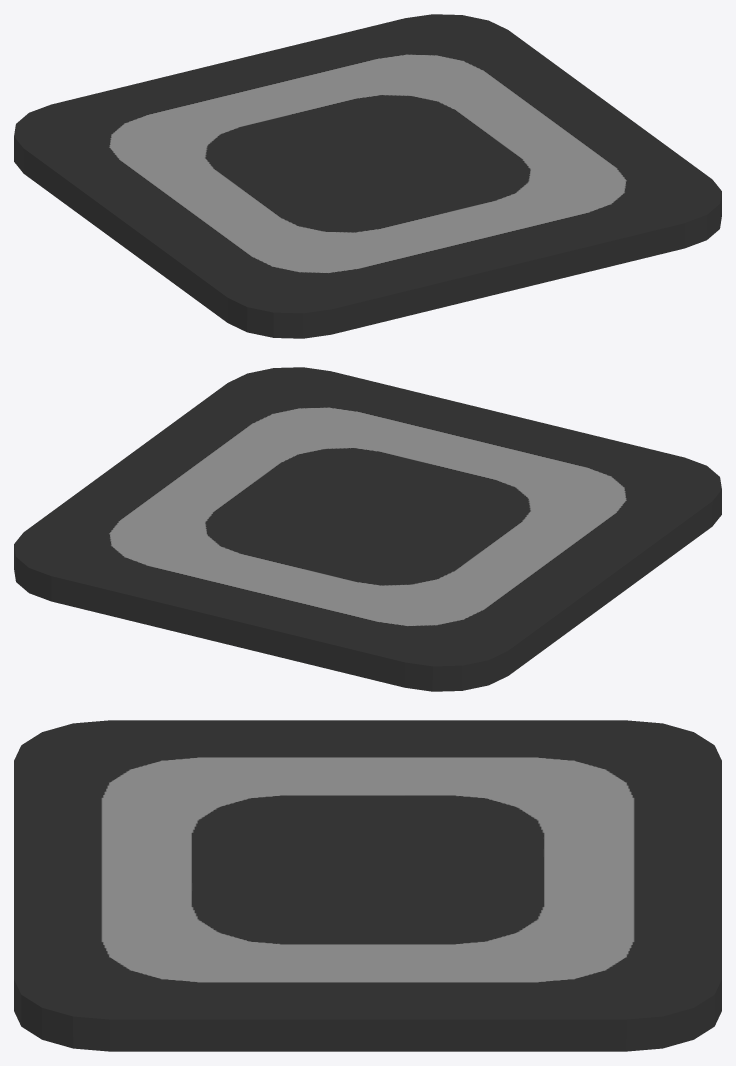
Rendered from MovingPlatform.glb.
3 renders of one model, top to bottom at view 1: azimuth 30°, elevation 25°; view 2: azimuth 150°, elevation 25°; view 3: azimuth 270°, elevation 25°, orthographic. The views are drawn at different scales.
Parts seen in each view (by area): view 1: MovingPlatform; view 2: MovingPlatform; view 3: MovingPlatform.
Boxes of the visible parts, box(x1,y1,x2,y2) form: MovingPlatform: box(14, 14, 721, 338); MovingPlatform: box(14, 367, 721, 691); MovingPlatform: box(14, 720, 721, 1051).
Bounding box in the file's own units: 2 × 0.2 × 2.
Materials: 1 (1 with a texture image).
